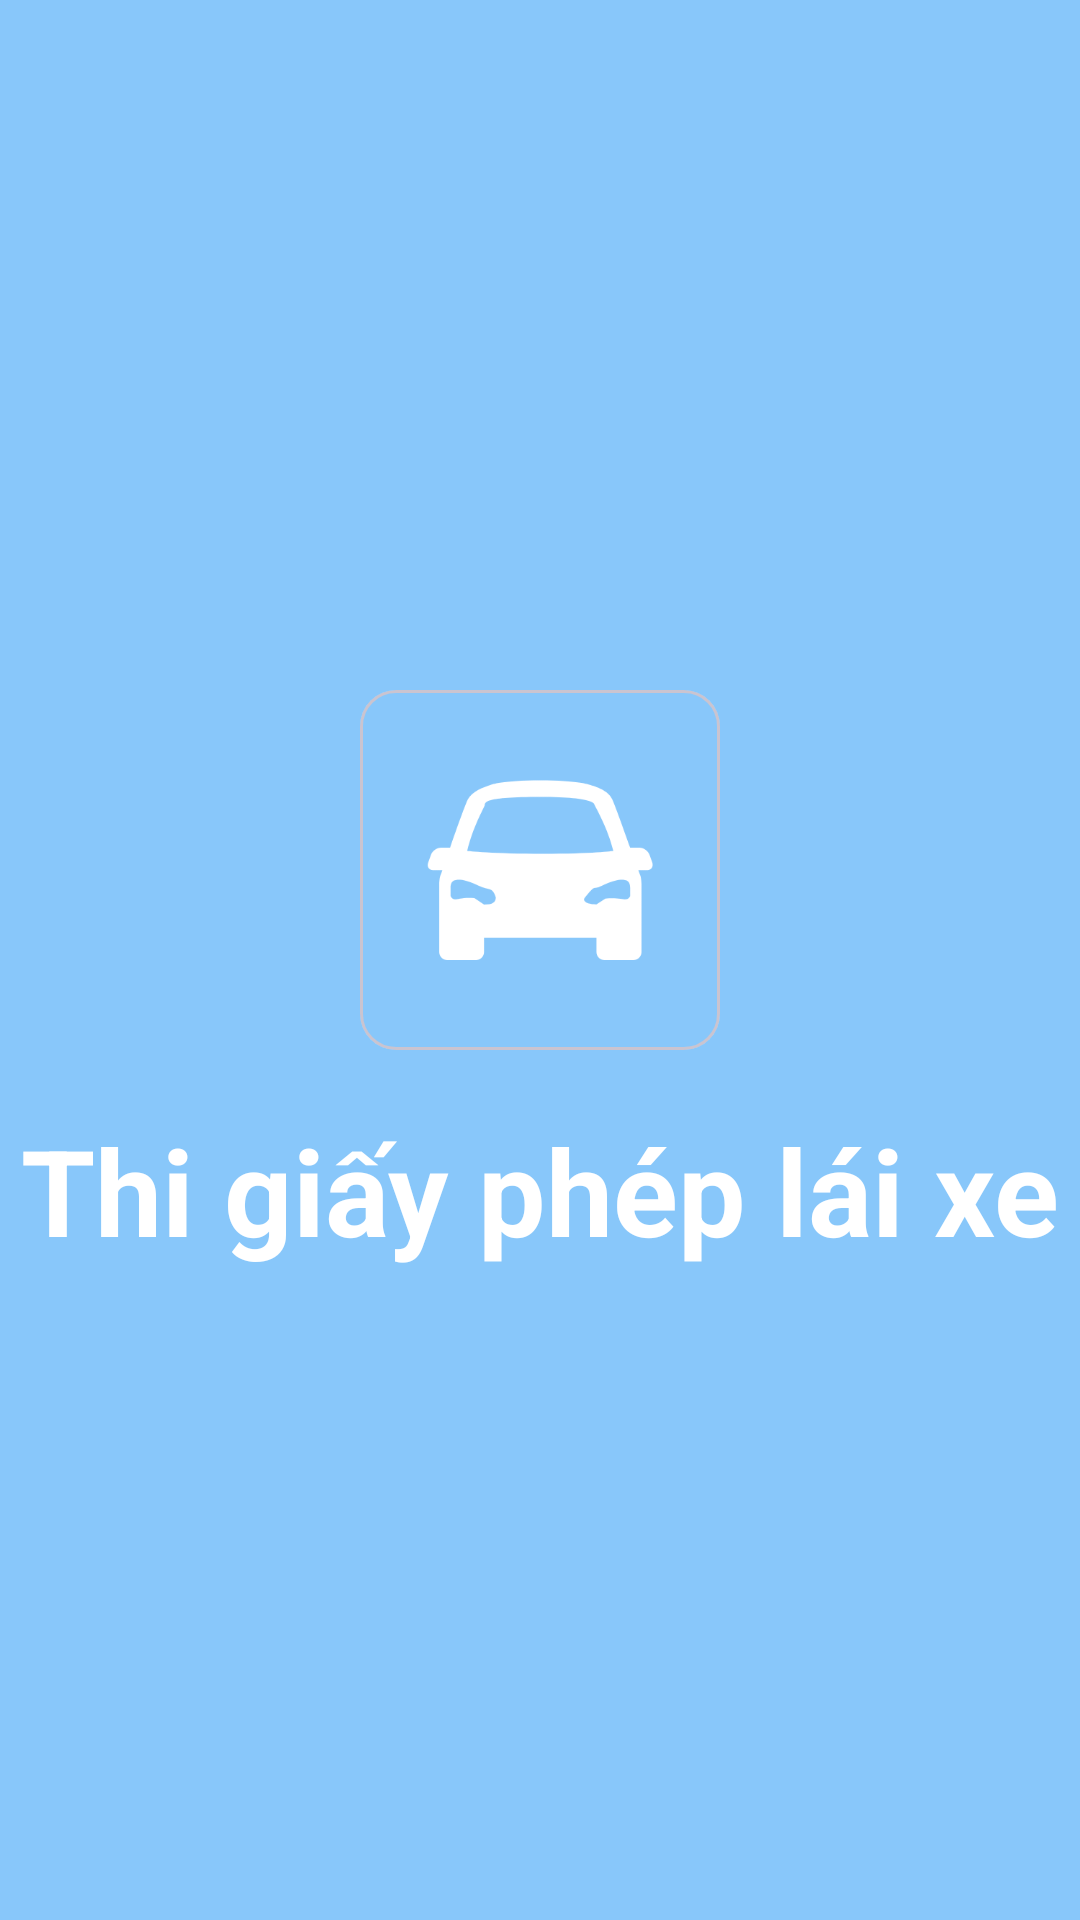

Point at icon controls on the screen. Image size 1080px x 1920px, points as (x=x, y=y).
mophonglaixe: (x=540, y=870)
